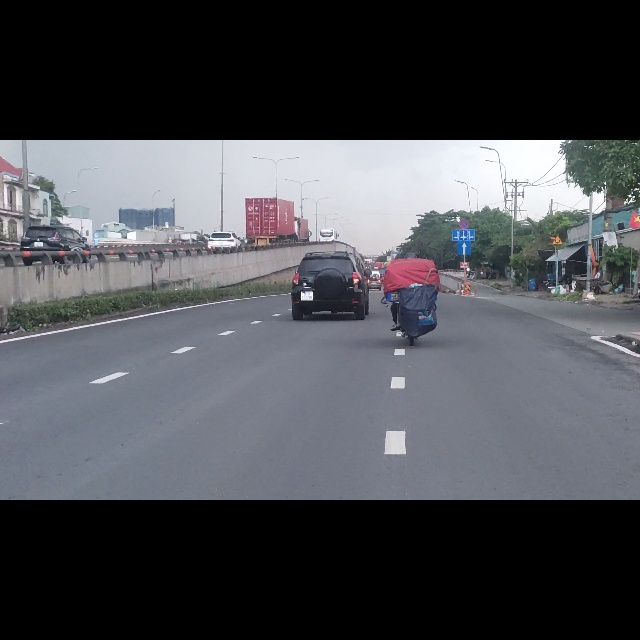bien_chi_dan: (457, 178, 472, 204), (458, 139, 471, 158), (552, 169, 563, 185)
